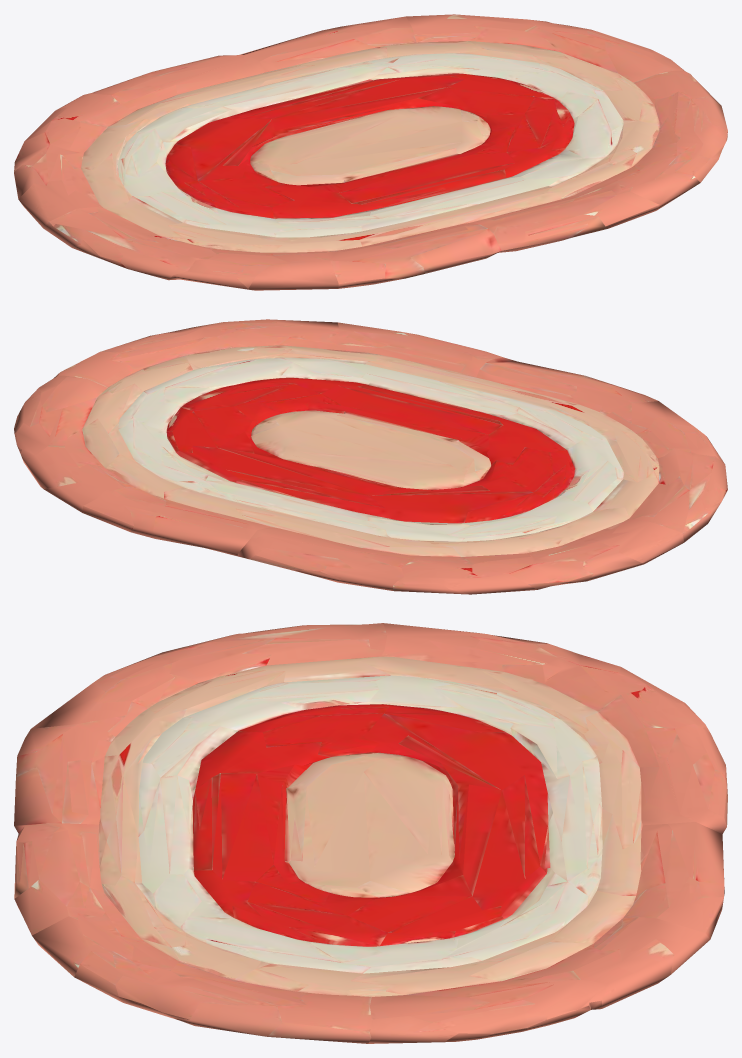
The model's file is rug.glb.
3 renders of one model, top to bottom at view 1: azimuth 30°, elevation 25°; view 2: azimuth 150°, elevation 25°; view 3: azimuth 270°, elevation 25°, orthographic. The views are drawn at different scales.
Visible parts, largest first — view 1: rug; view 2: rug; view 3: rug.
Part boxes in pixels (box(x1,y1,x2,y2)): rug: box(14, 14, 727, 290); rug: box(14, 319, 727, 594); rug: box(14, 623, 727, 1043).
Size of the model in its own units: 1.89 by 0.0501 by 1.38.
Materials: 1 (1 with a texture image).
